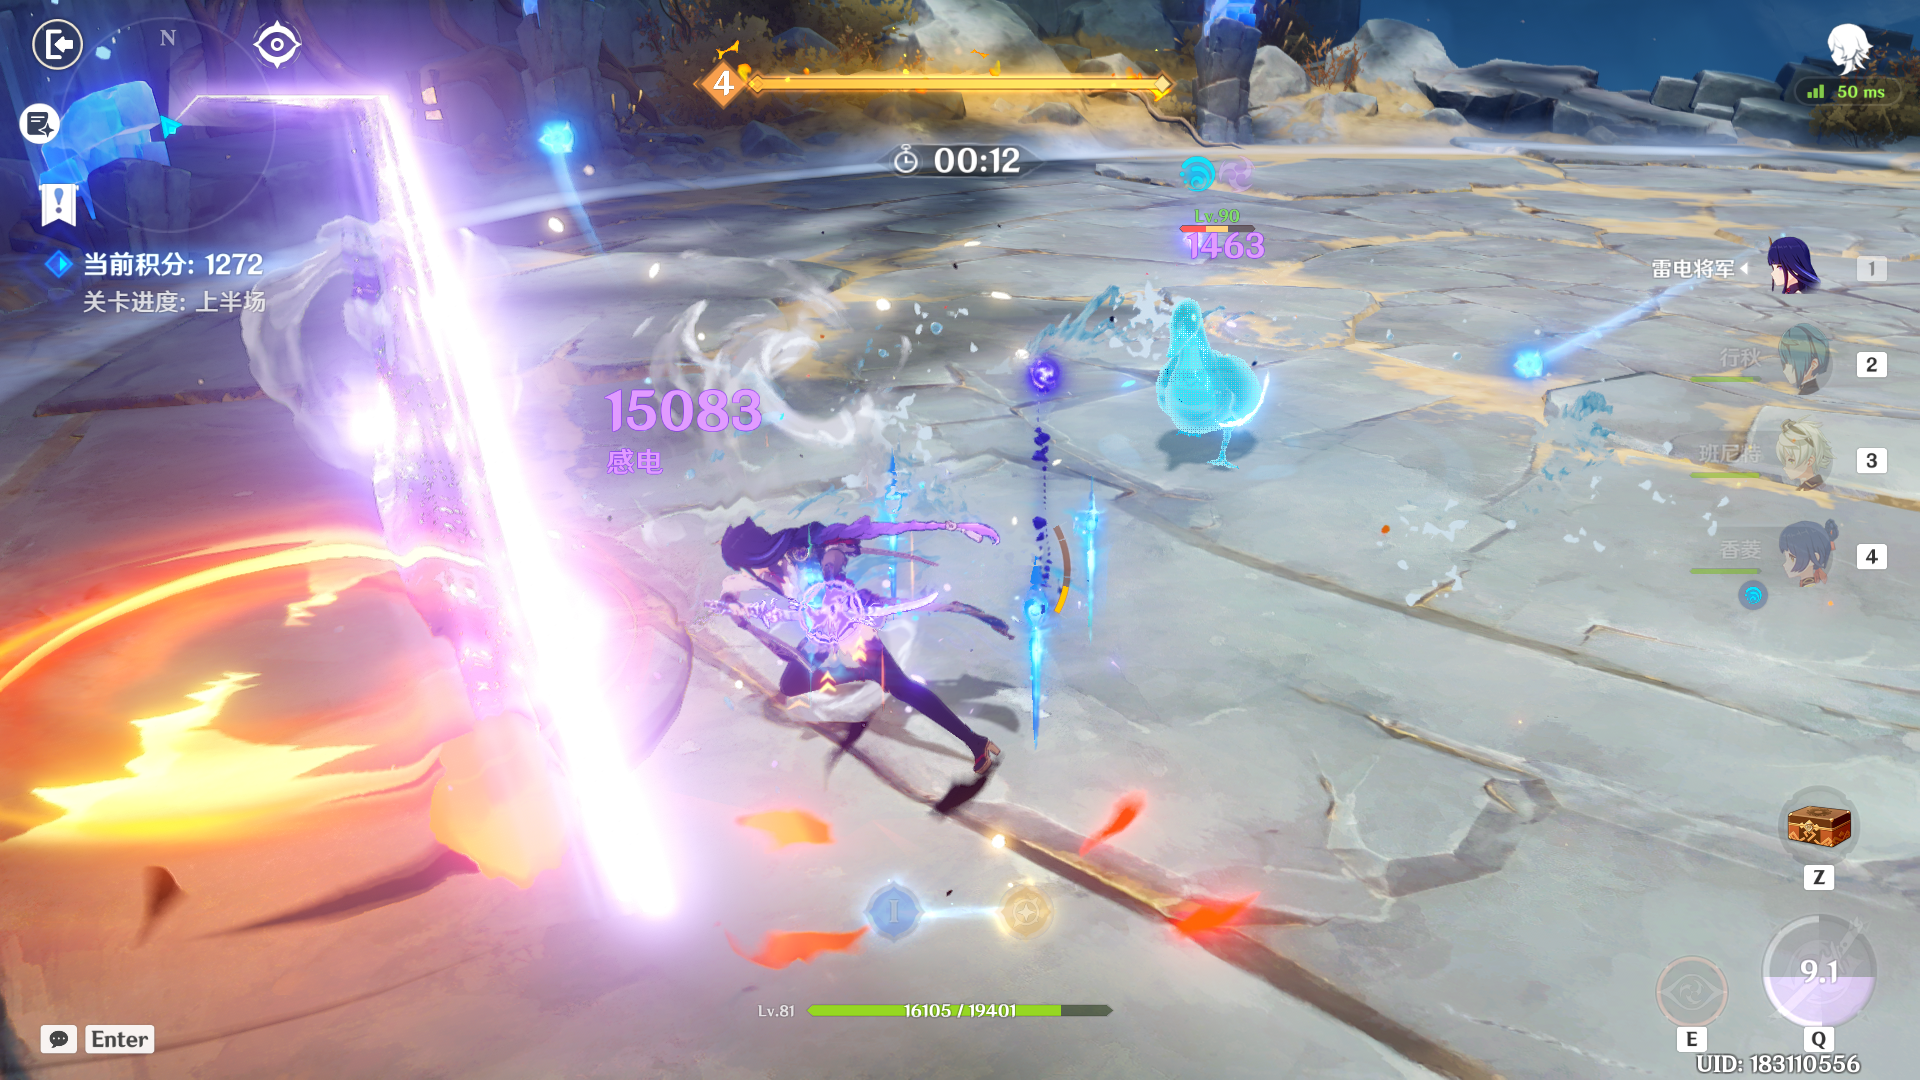character: (690, 463, 1058, 874)
